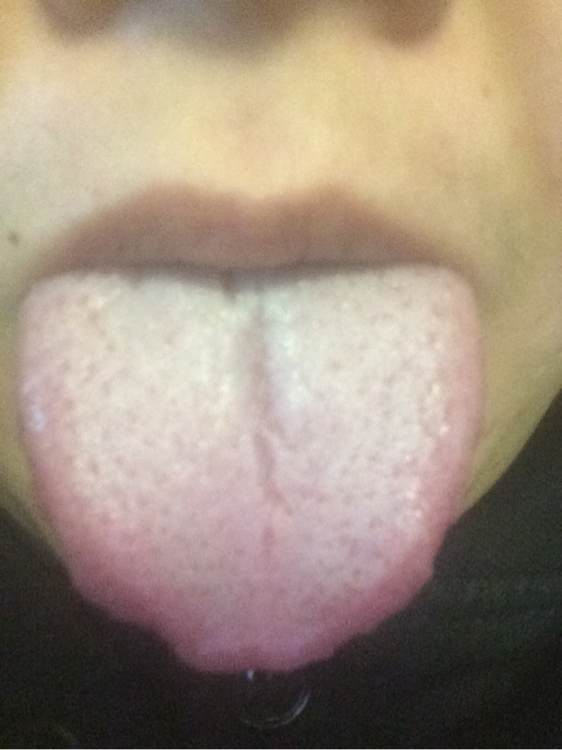baitaishe: (15, 262, 477, 672)
liewenshe: (221, 278, 293, 559)
pangdashe: (16, 262, 478, 672)
